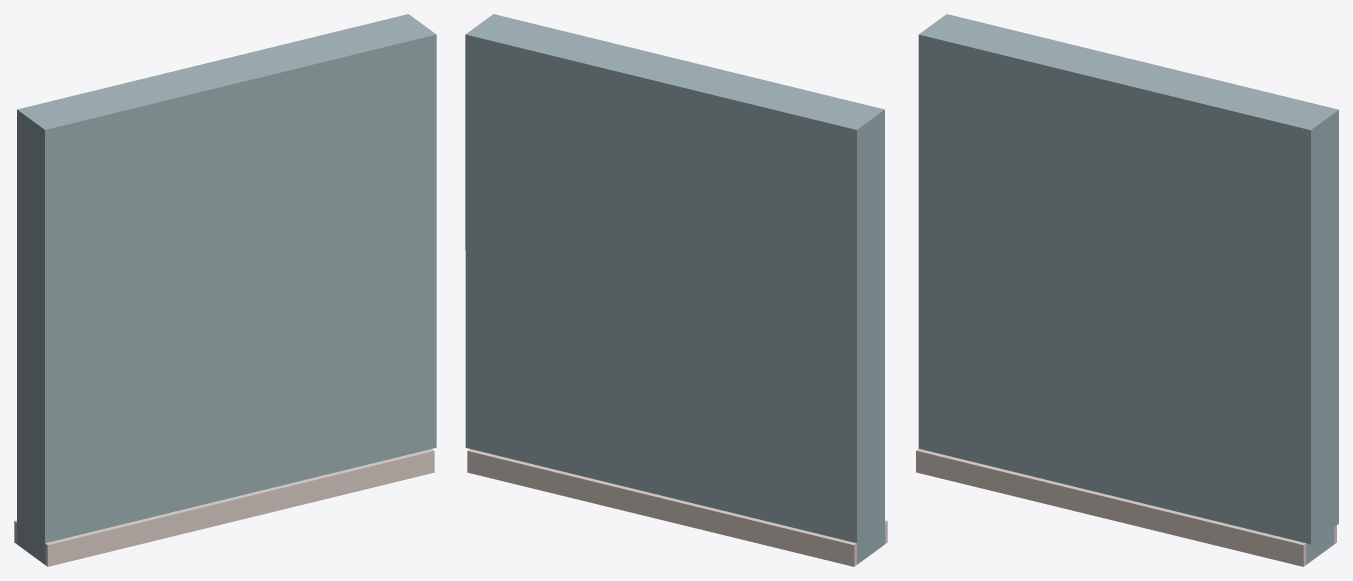
File: ConnectorWall.fbx
3 views of the same model, side by side, from view 1: azimuth 30°, elevation 25°; view 2: azimuth 150°, elevation 25°; view 3: azimuth 330°, elevation 25° (orthographic).
Visible parts, largest first — view 1: ConnectorWall; view 2: ConnectorWall; view 3: ConnectorWall.
Part boxes in pixels (x1,y1,x2,y2): ConnectorWall: (14, 14, 436, 566); ConnectorWall: (465, 14, 887, 566); ConnectorWall: (916, 14, 1338, 566).
Size of the model in its own units: 1.88 by 0.278 by 2.
